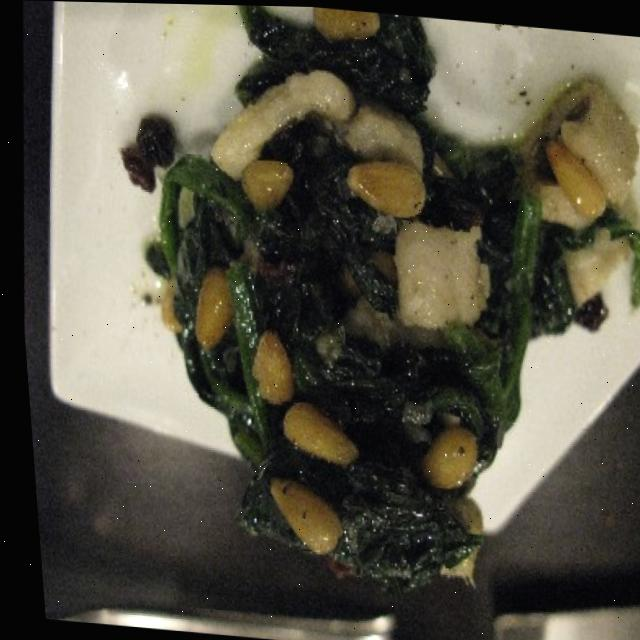蔬菜料理: (91, 2, 640, 640)
